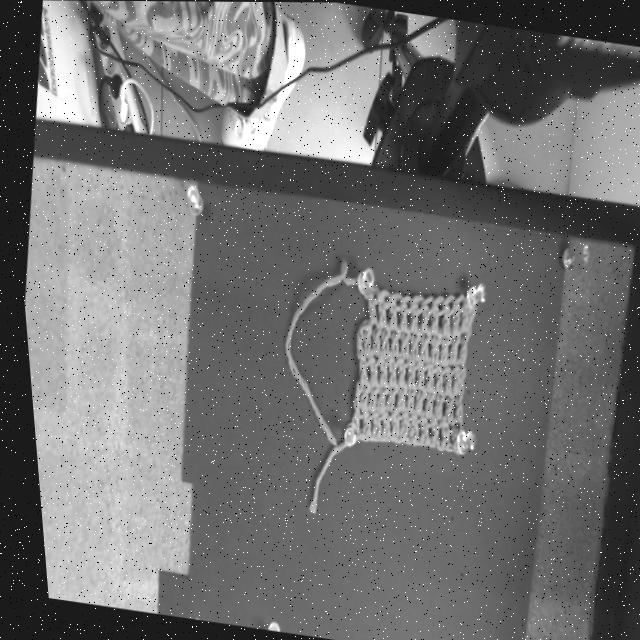ch: (395, 434, 409, 443), (412, 437, 424, 445), (430, 443, 442, 450), (388, 434, 398, 442), (351, 432, 361, 440), (421, 439, 431, 447), (381, 434, 390, 441), (406, 438, 416, 444), (361, 435, 373, 440), (373, 435, 382, 441)
dc: (402, 293, 419, 332), (450, 323, 466, 364), (445, 293, 459, 336), (381, 291, 396, 330), (435, 295, 449, 336), (414, 293, 428, 334), (359, 284, 373, 325), (371, 288, 385, 327), (370, 346, 383, 387), (441, 323, 454, 364), (424, 295, 438, 333), (454, 297, 469, 332), (393, 294, 406, 333), (433, 326, 445, 366), (413, 324, 425, 364), (423, 327, 435, 365), (351, 377, 364, 412), (361, 346, 372, 387), (418, 353, 430, 390), (378, 377, 391, 410), (446, 357, 457, 396), (370, 379, 382, 413), (381, 349, 392, 386), (404, 324, 415, 361), (365, 319, 376, 356), (431, 414, 444, 445), (390, 405, 403, 436), (359, 382, 372, 413), (390, 352, 401, 388), (417, 385, 429, 417), (426, 387, 438, 419), (375, 320, 385, 358), (407, 383, 419, 414), (410, 352, 420, 389), (353, 345, 362, 386), (373, 404, 384, 437), (389, 377, 400, 410), (357, 319, 366, 359), (437, 356, 446, 395), (399, 380, 410, 411), (384, 324, 394, 358), (401, 408, 412, 438), (381, 407, 393, 434), (395, 323, 404, 359), (355, 403, 365, 435), (400, 354, 410, 386), (422, 412, 432, 442), (364, 406, 374, 435), (437, 390, 446, 422), (429, 357, 437, 392), (412, 408, 421, 438)
